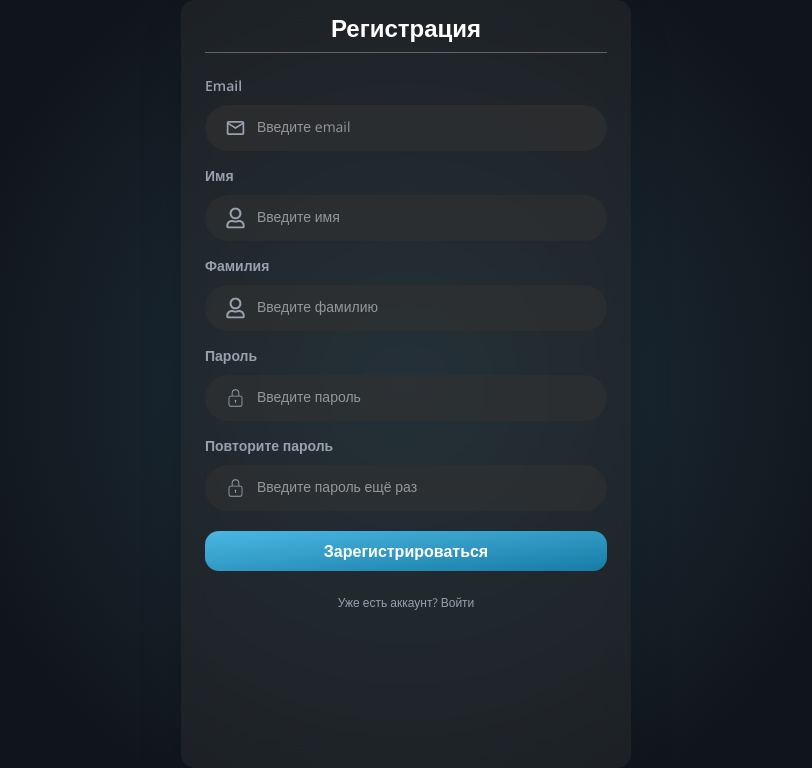
Scenario: Register form › should display validation errors for empty fields
This screenshot has width=812, height=768.
Check: the text "не валидный" is not shown
Step 1. Click the button "Зарегистрироваться" → point(406, 551), box [205,531,607,571]
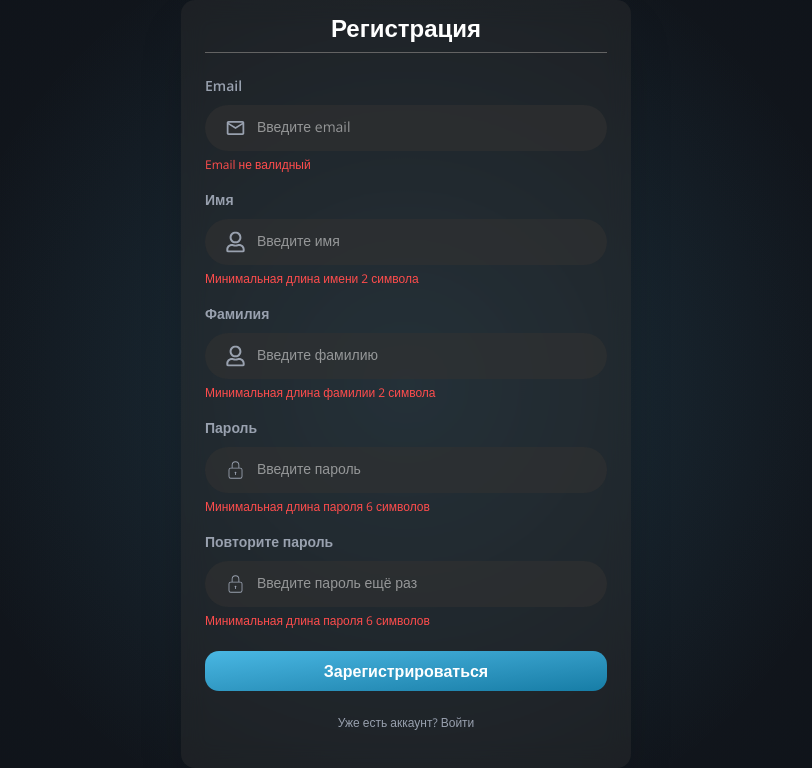
Check: the text "Email не валидный" is shown, box [205,156,311,173]
Check: the text "Минимальная длина имени 2 символа" is shown, box [205,270,419,287]
Check: the text "Минимальная длина фамилии 2 символа" is shown, box [205,384,436,401]
